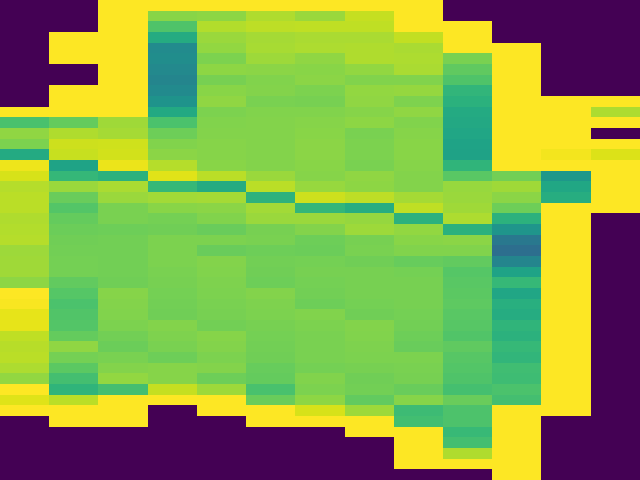car_0027: (4, 1, 640, 474)
